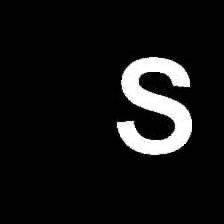LTR_S: (111, 52, 198, 158)
